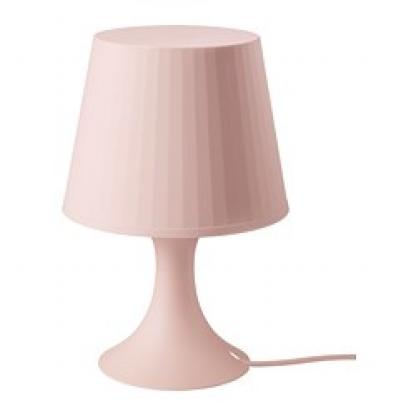Lamp: (35, 15, 314, 401)
